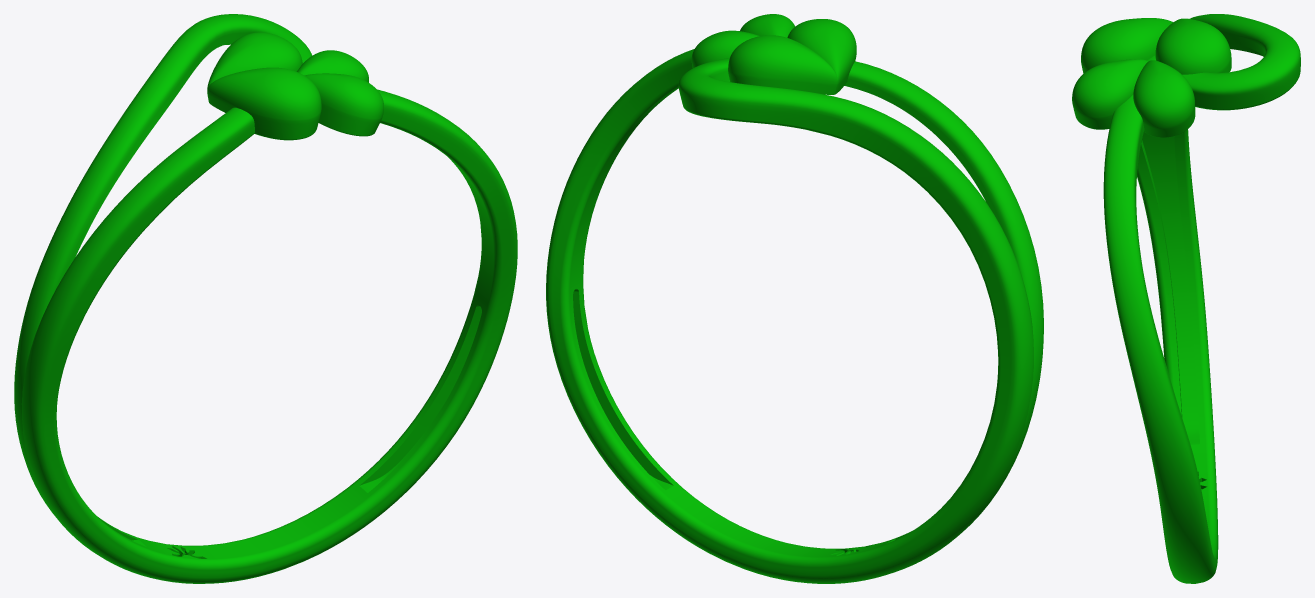
3 views of the same model, side by side, from view 1: azimuth 30°, elevation 25°; view 2: azimuth 150°, elevation 25°; view 3: azimuth 270°, elevation 25° (orthographic).
Visible parts, largest first — view 1: a.3dm; view 2: a.3dm; view 3: a.3dm.
Boxes of the visible parts, x1=… form: a.3dm: x1=14, y1=14, x2=517, y2=583; a.3dm: x1=546, y1=14, x2=1043, y2=583; a.3dm: x1=1072, y1=14, x2=1300, y2=583.
Size of the model in its own units: 2.65 by 2.79 by 1.08.
